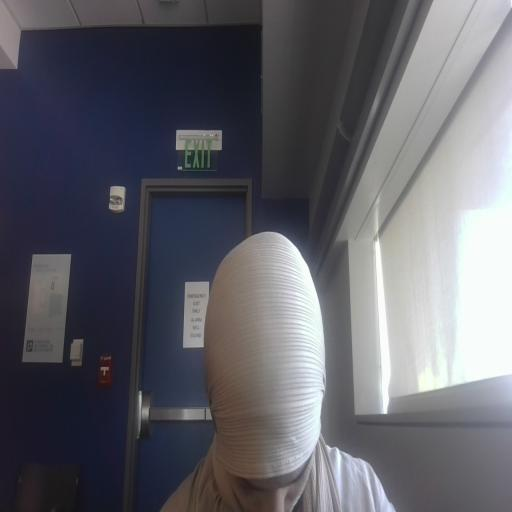lookingdownatphone: (230, 461, 309, 511)
